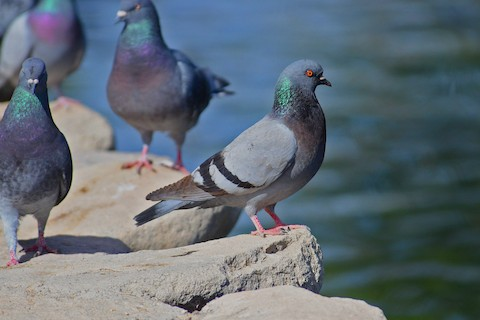pigeon: (129, 52, 340, 244), (109, 1, 238, 174), (4, 55, 85, 269), (2, 1, 96, 101)
